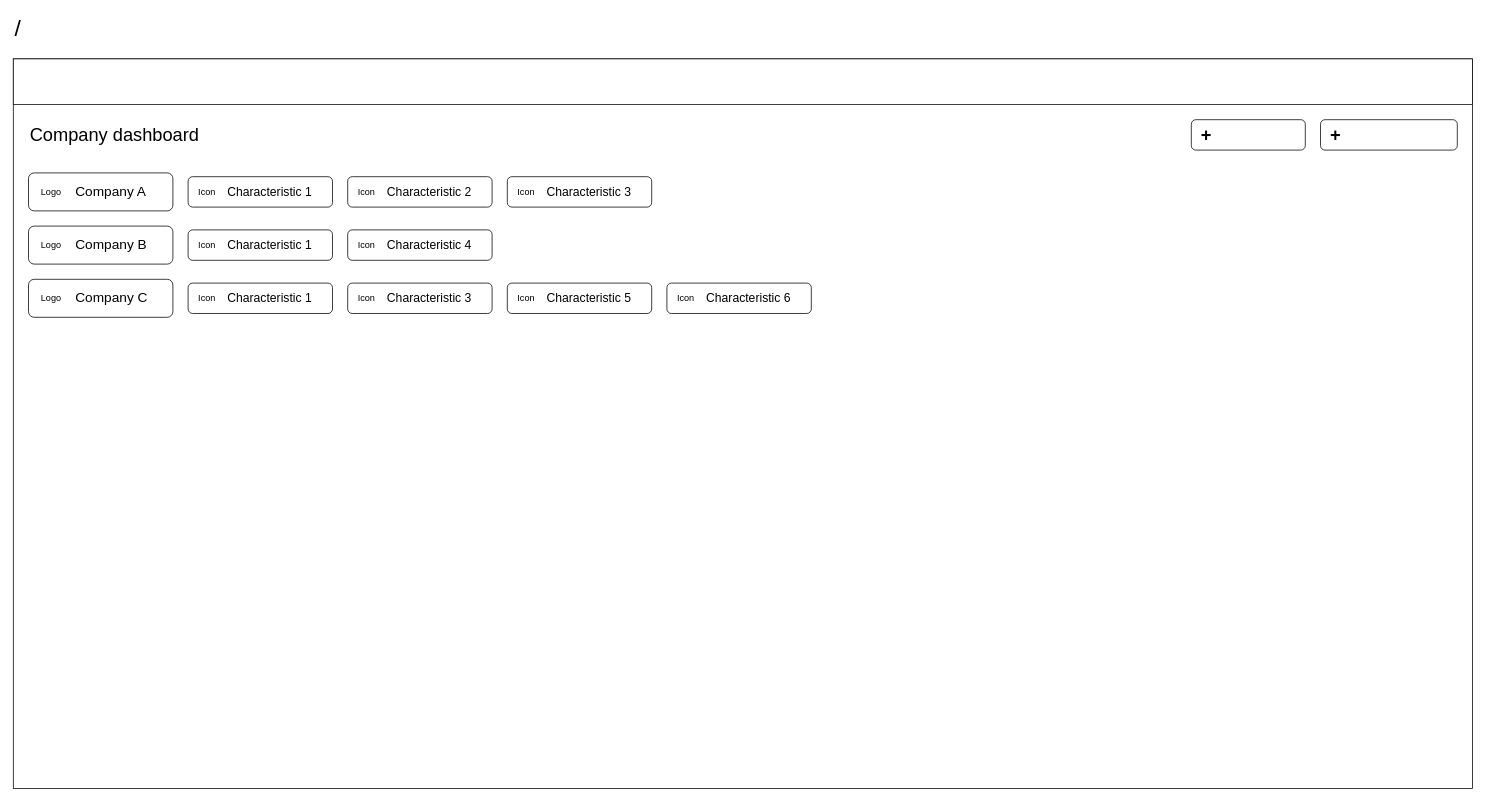
Some shapes in this 1486 by 802 pixel diagram are drawn without their labels. The shapes that lost their labels are listed below. From the top down, each one's box as (x1, y1, x2, y2) in pixels, then its label:
(13, 58, 1472, 104): FIT
(1191, 119, 1305, 150): Add company
(1320, 119, 1457, 150): Add characteristic
